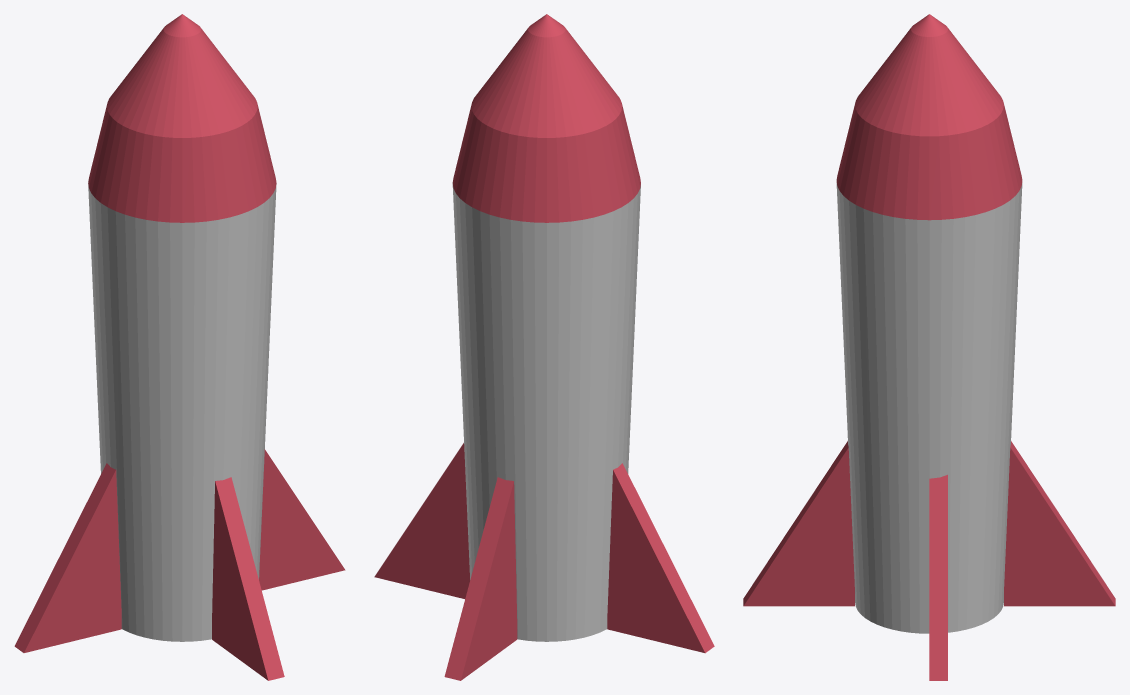
Rendered from missile.glb.
The picture shows the model from 3 angles, left to right: view 1: azimuth 30°, elevation 25°; view 2: azimuth 150°, elevation 25°; view 3: azimuth 270°, elevation 25°; orthographic projection.
Parts seen in each view (by area): view 1: Mesh_Mesh_head_geo.001_lambert2SG.001; view 2: Mesh_Mesh_head_geo.001_lambert2SG.001; view 3: Mesh_Mesh_head_geo.001_lambert2SG.001.
Boxes of the visible parts, left/top/right/bottom form: Mesh_Mesh_head_geo.001_lambert2SG.001: left=14, top=14, right=345, bottom=680; Mesh_Mesh_head_geo.001_lambert2SG.001: left=374, top=14, right=714, bottom=680; Mesh_Mesh_head_geo.001_lambert2SG.001: left=743, top=14, right=1115, bottom=680.
Bounding box in the file's own units: 0.04 × 0.0698 × 0.04.
